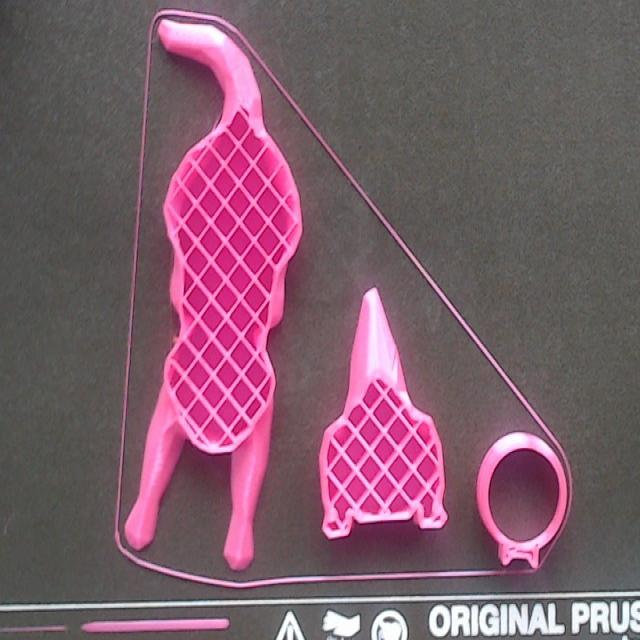mistake: (173, 336, 178, 345)
